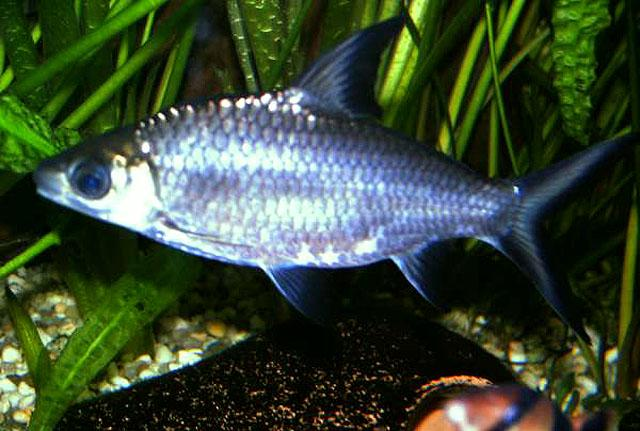Mulut: (4, 122, 114, 238)
Sirip Anal: (374, 222, 458, 322)
Sirip Dada: (138, 205, 272, 271)
Sirip Ekor: (484, 122, 638, 334)
Sirip Perut: (252, 252, 326, 324)
Sirip Punggung: (278, 6, 432, 148)
